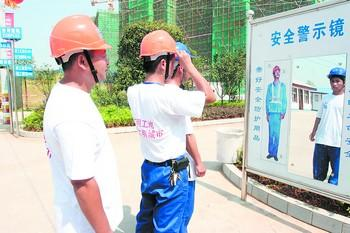helmet: (50, 13, 114, 59), (142, 30, 180, 58), (173, 43, 196, 60), (329, 67, 347, 79), (273, 65, 282, 74)
